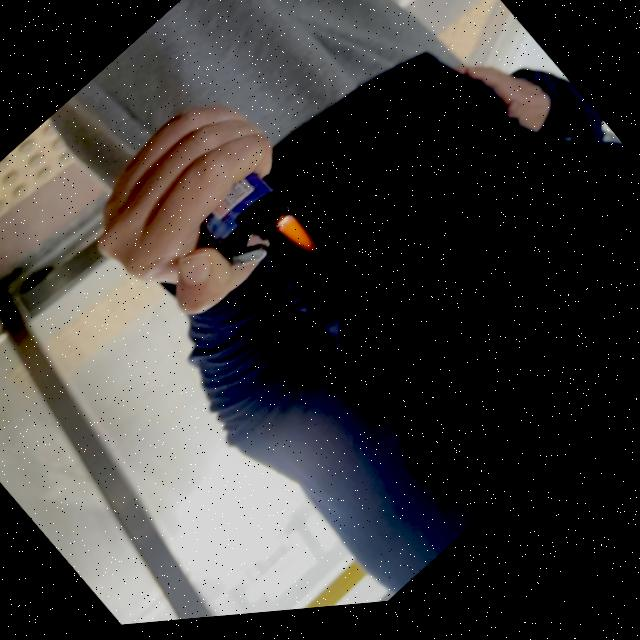Fire: (279, 217, 328, 268)
